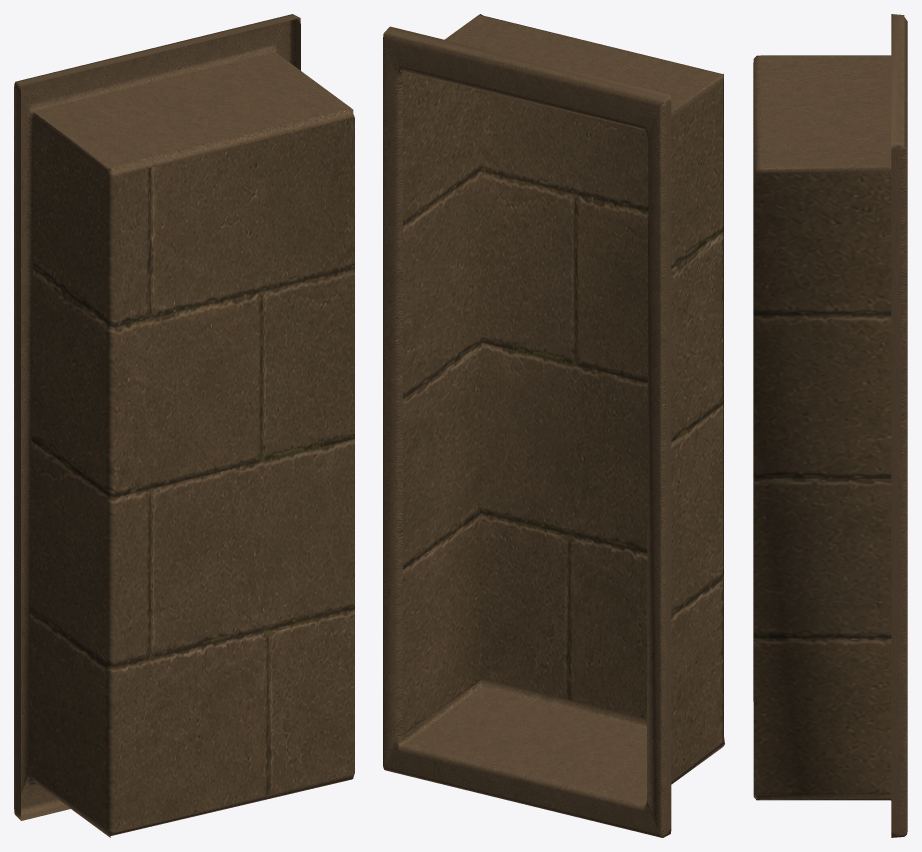
File: temple_innertop_elevator_nook.fbx
The picture shows the model from 3 angles, left to right: view 1: azimuth 30°, elevation 25°; view 2: azimuth 150°, elevation 25°; view 3: azimuth 270°, elevation 25°; orthographic projection. The views are drawn at different scales.
Parts seen in each view (by area): view 1: innertop.010; view 2: innertop.010; view 3: innertop.010.
Boxes of the visible parts, x1,y1,x2,y2 form: innertop.010: (14,14,354,837); innertop.010: (383,14,724,837); innertop.010: (753,14,907,837).
Size of the model in its own units: 8.52 by 21.38 by 4.3.
